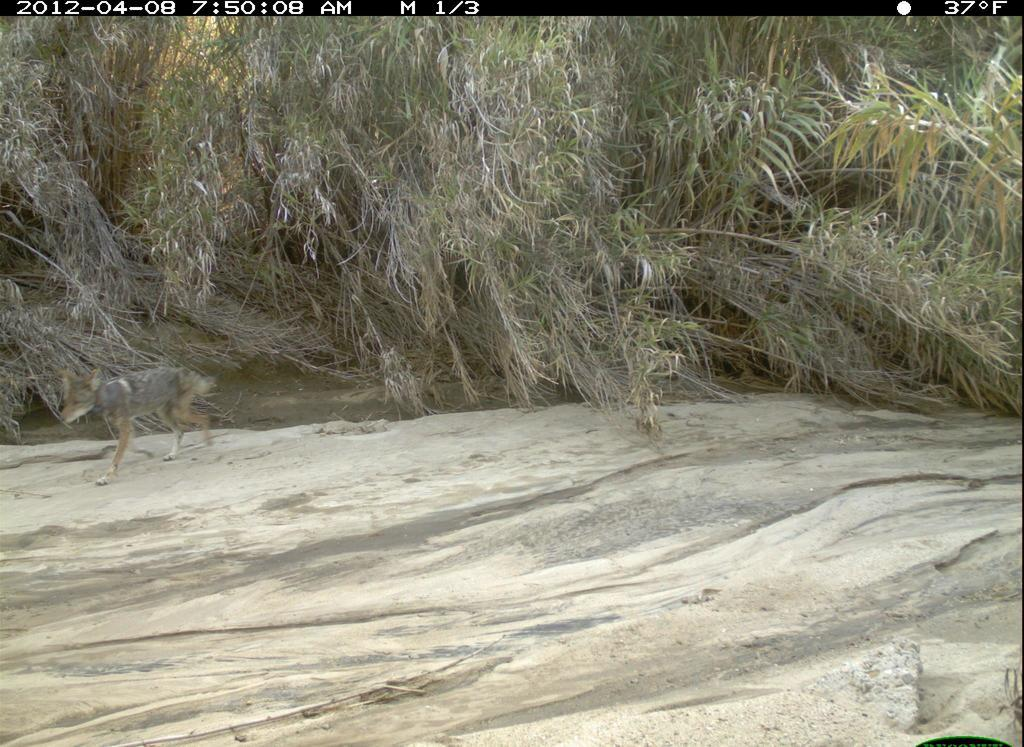coyote: (50, 360, 228, 492)
